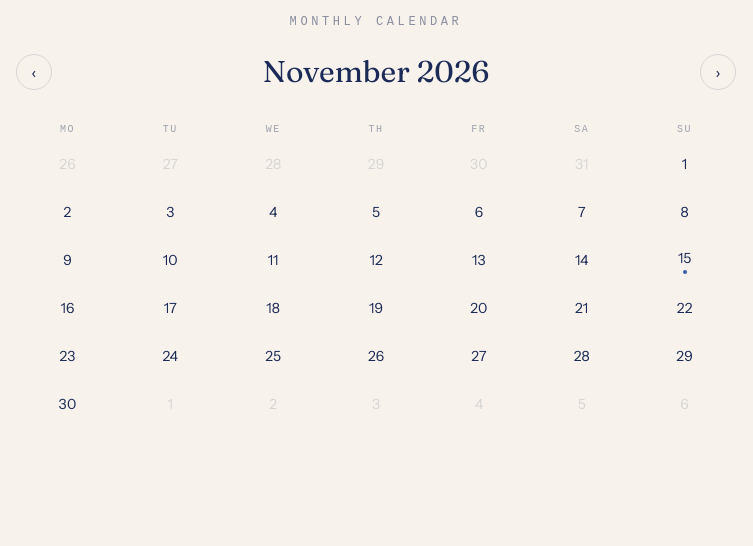
Test: CalendarGrid › shows an empty message for a day with nothing scheduled
The width and height of the screenshot is (753, 546).
Click the button named "Mon Nov 02 2026".
click(67, 213)  # box [47, 193, 87, 233]
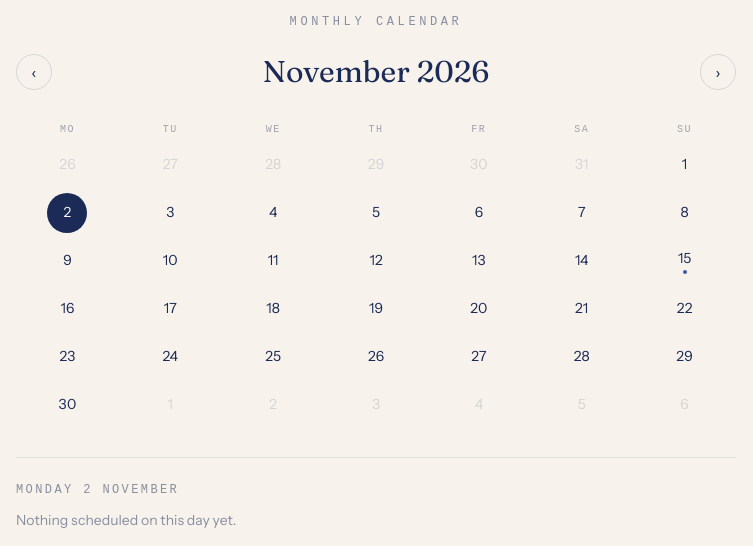
expect the text "Nothing scheduled on this day yet." is shown: met, box [16, 511, 236, 529]
